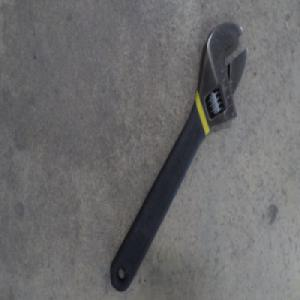AdjustableWrench: (109, 21, 247, 288)
